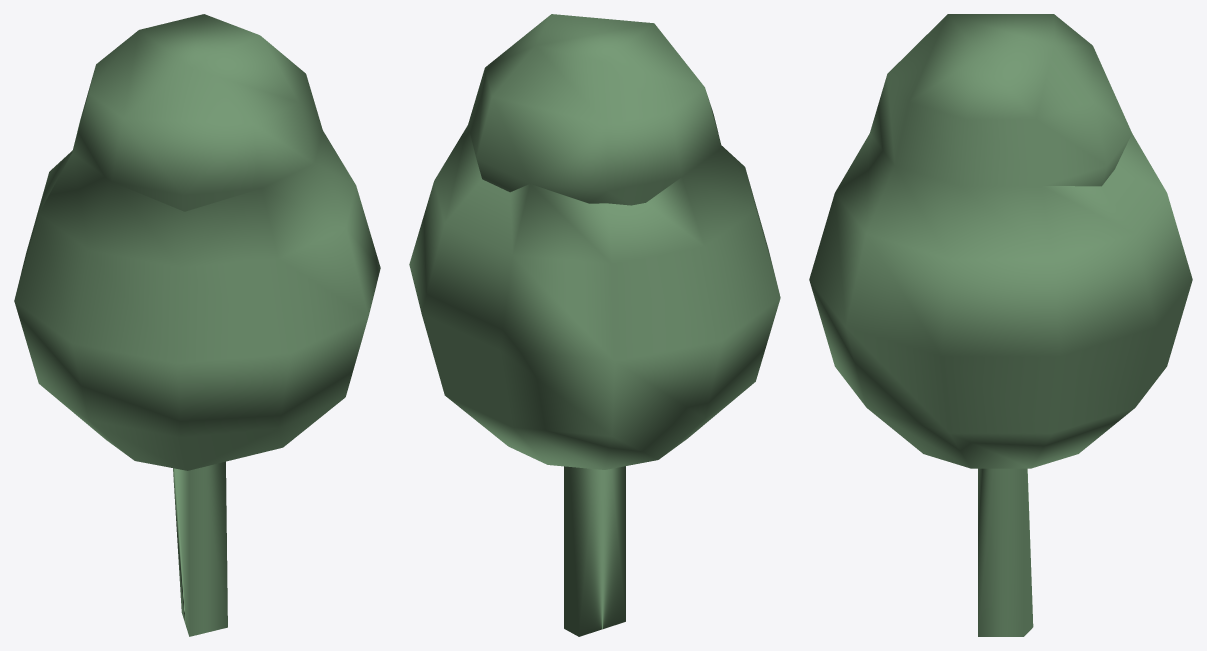
File: tree.lod1.glb
The picture shows the model from 3 angles, left to right: view 1: azimuth 30°, elevation 25°; view 2: azimuth 150°, elevation 25°; view 3: azimuth 270°, elevation 25°; orthographic projection. The views are drawn at different scales.
Bounding box in the file's own units: 1.81 × 3.26 × 1.9.
